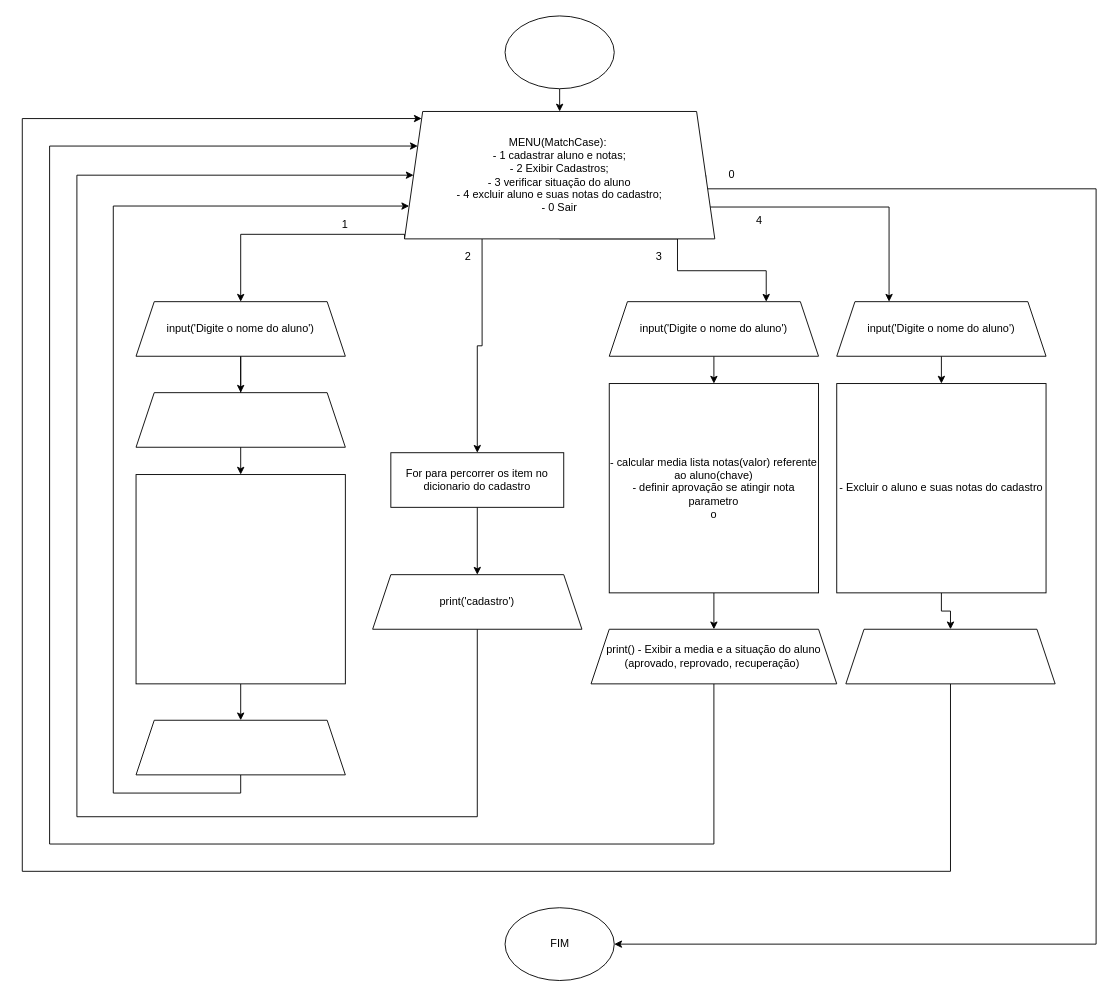
This 1119x996 diagram has some shape labels left out. The shapes that lost their labels are listed below. From the top down, each one's box as (x1, y1, x2, y2) in pixels, then its label:
(504, 15, 614, 89): INICIO
(135, 392, 345, 447): input('Digite as notas')
(135, 474, 345, 684): - inserir aluno(chave ) e notas (valor) no dicionário alunos
(845, 628, 1055, 684): print('Aluno excluido')
(135, 719, 345, 775): print('Aluno cadastrado')
